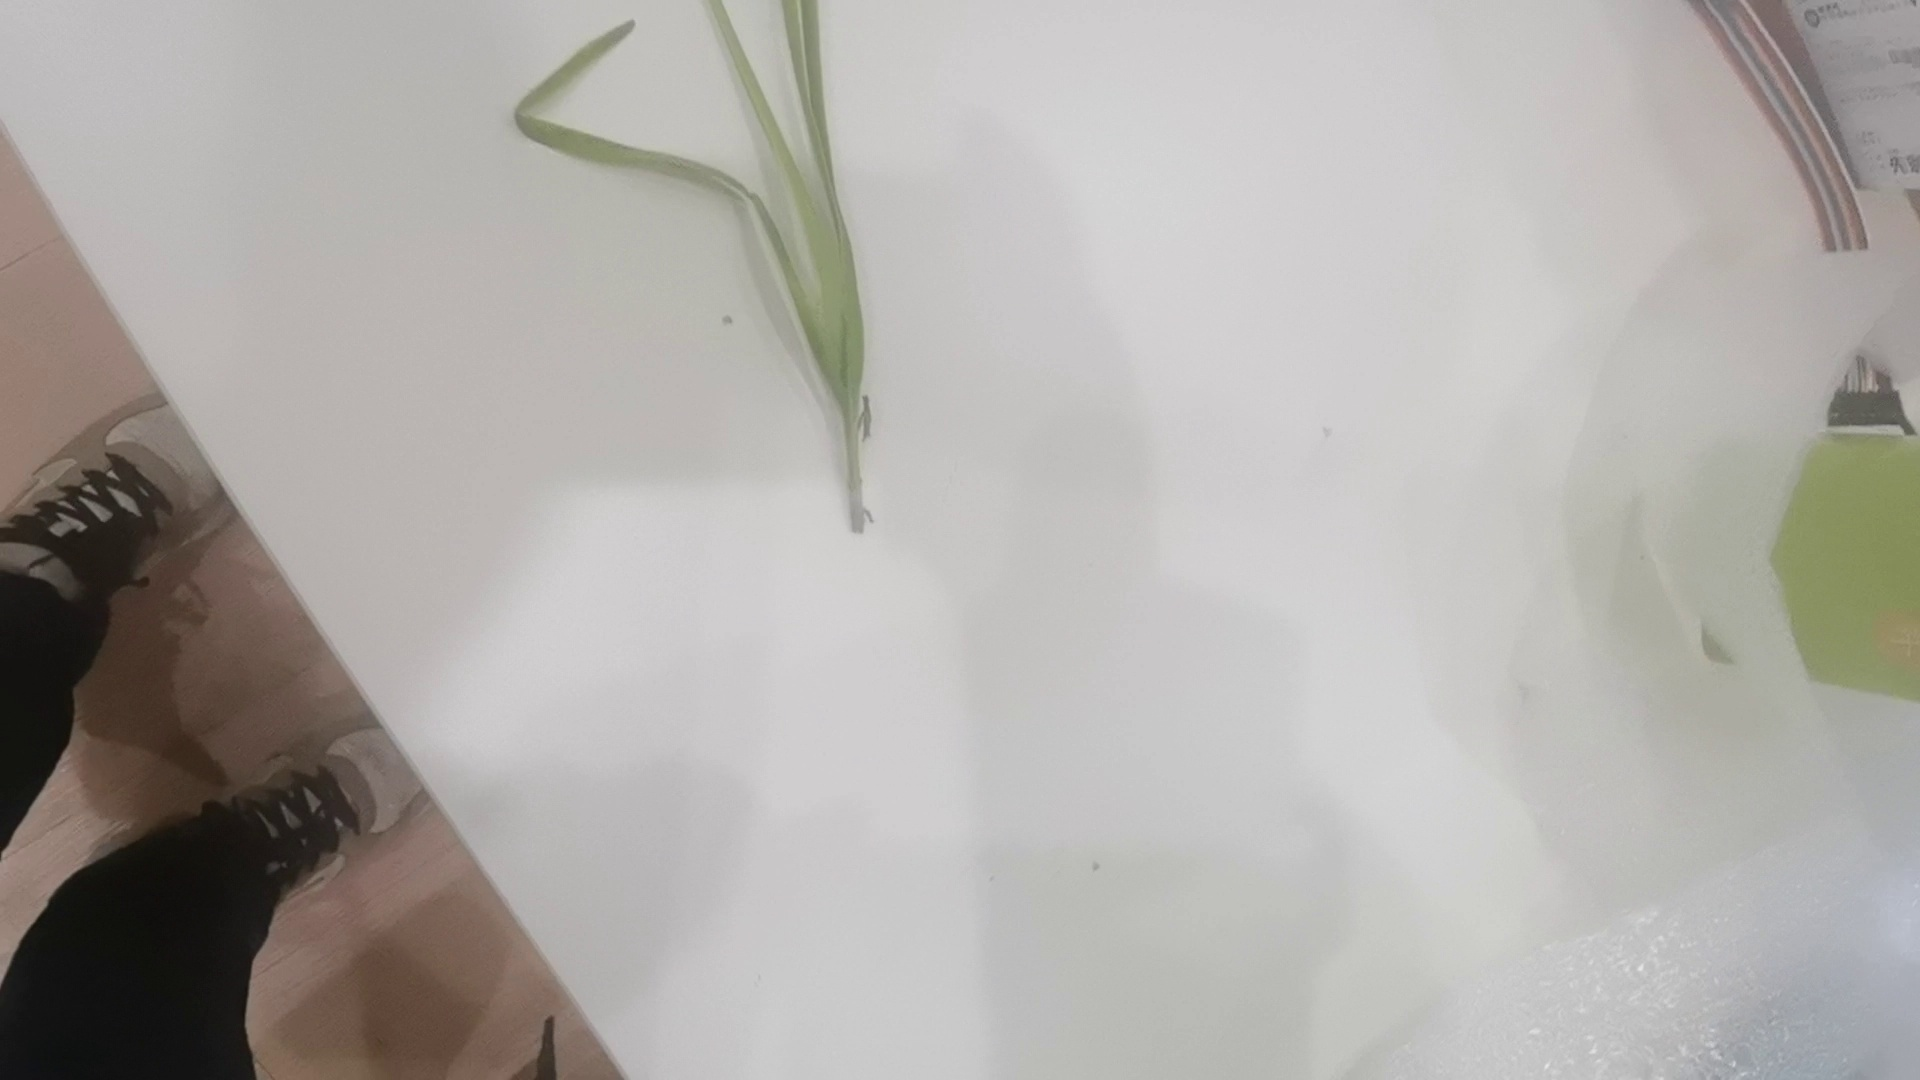chives: (506, 7, 885, 541)
